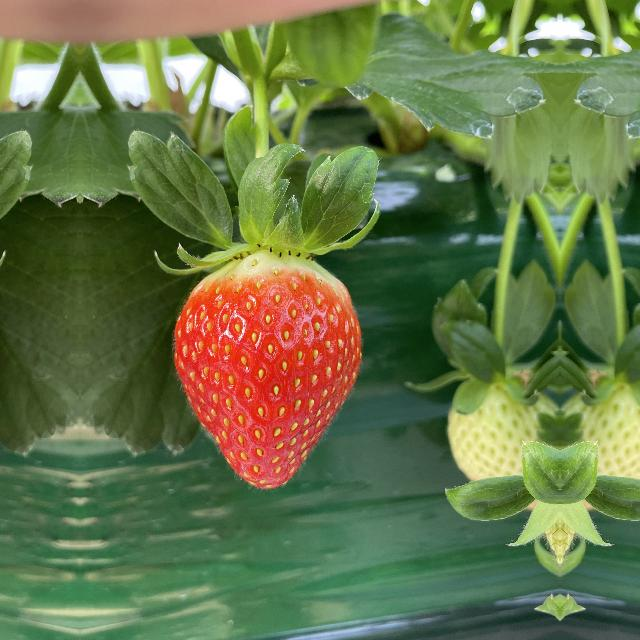Health_100: (173, 253, 364, 494)
Health_25: (448, 362, 536, 490), (584, 362, 640, 489)
